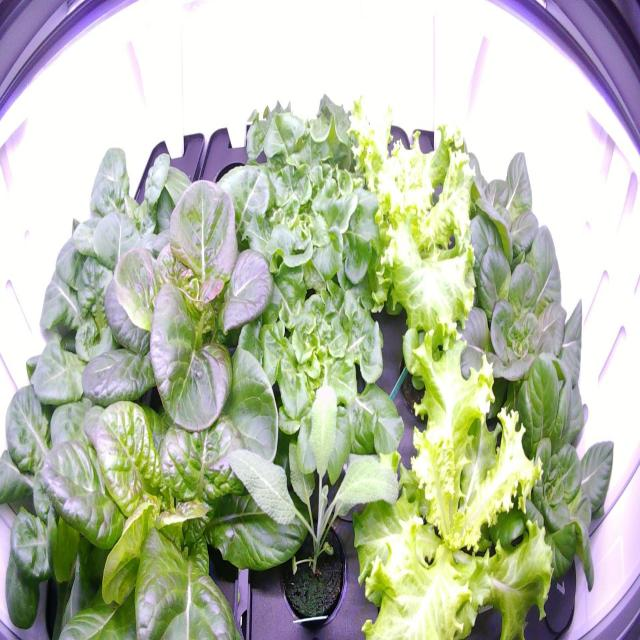young: (70, 158, 300, 484), (51, 377, 315, 639), (0, 376, 173, 639), (467, 366, 617, 622), (446, 219, 588, 455), (21, 218, 154, 411), (60, 127, 193, 284), (442, 133, 558, 282)
